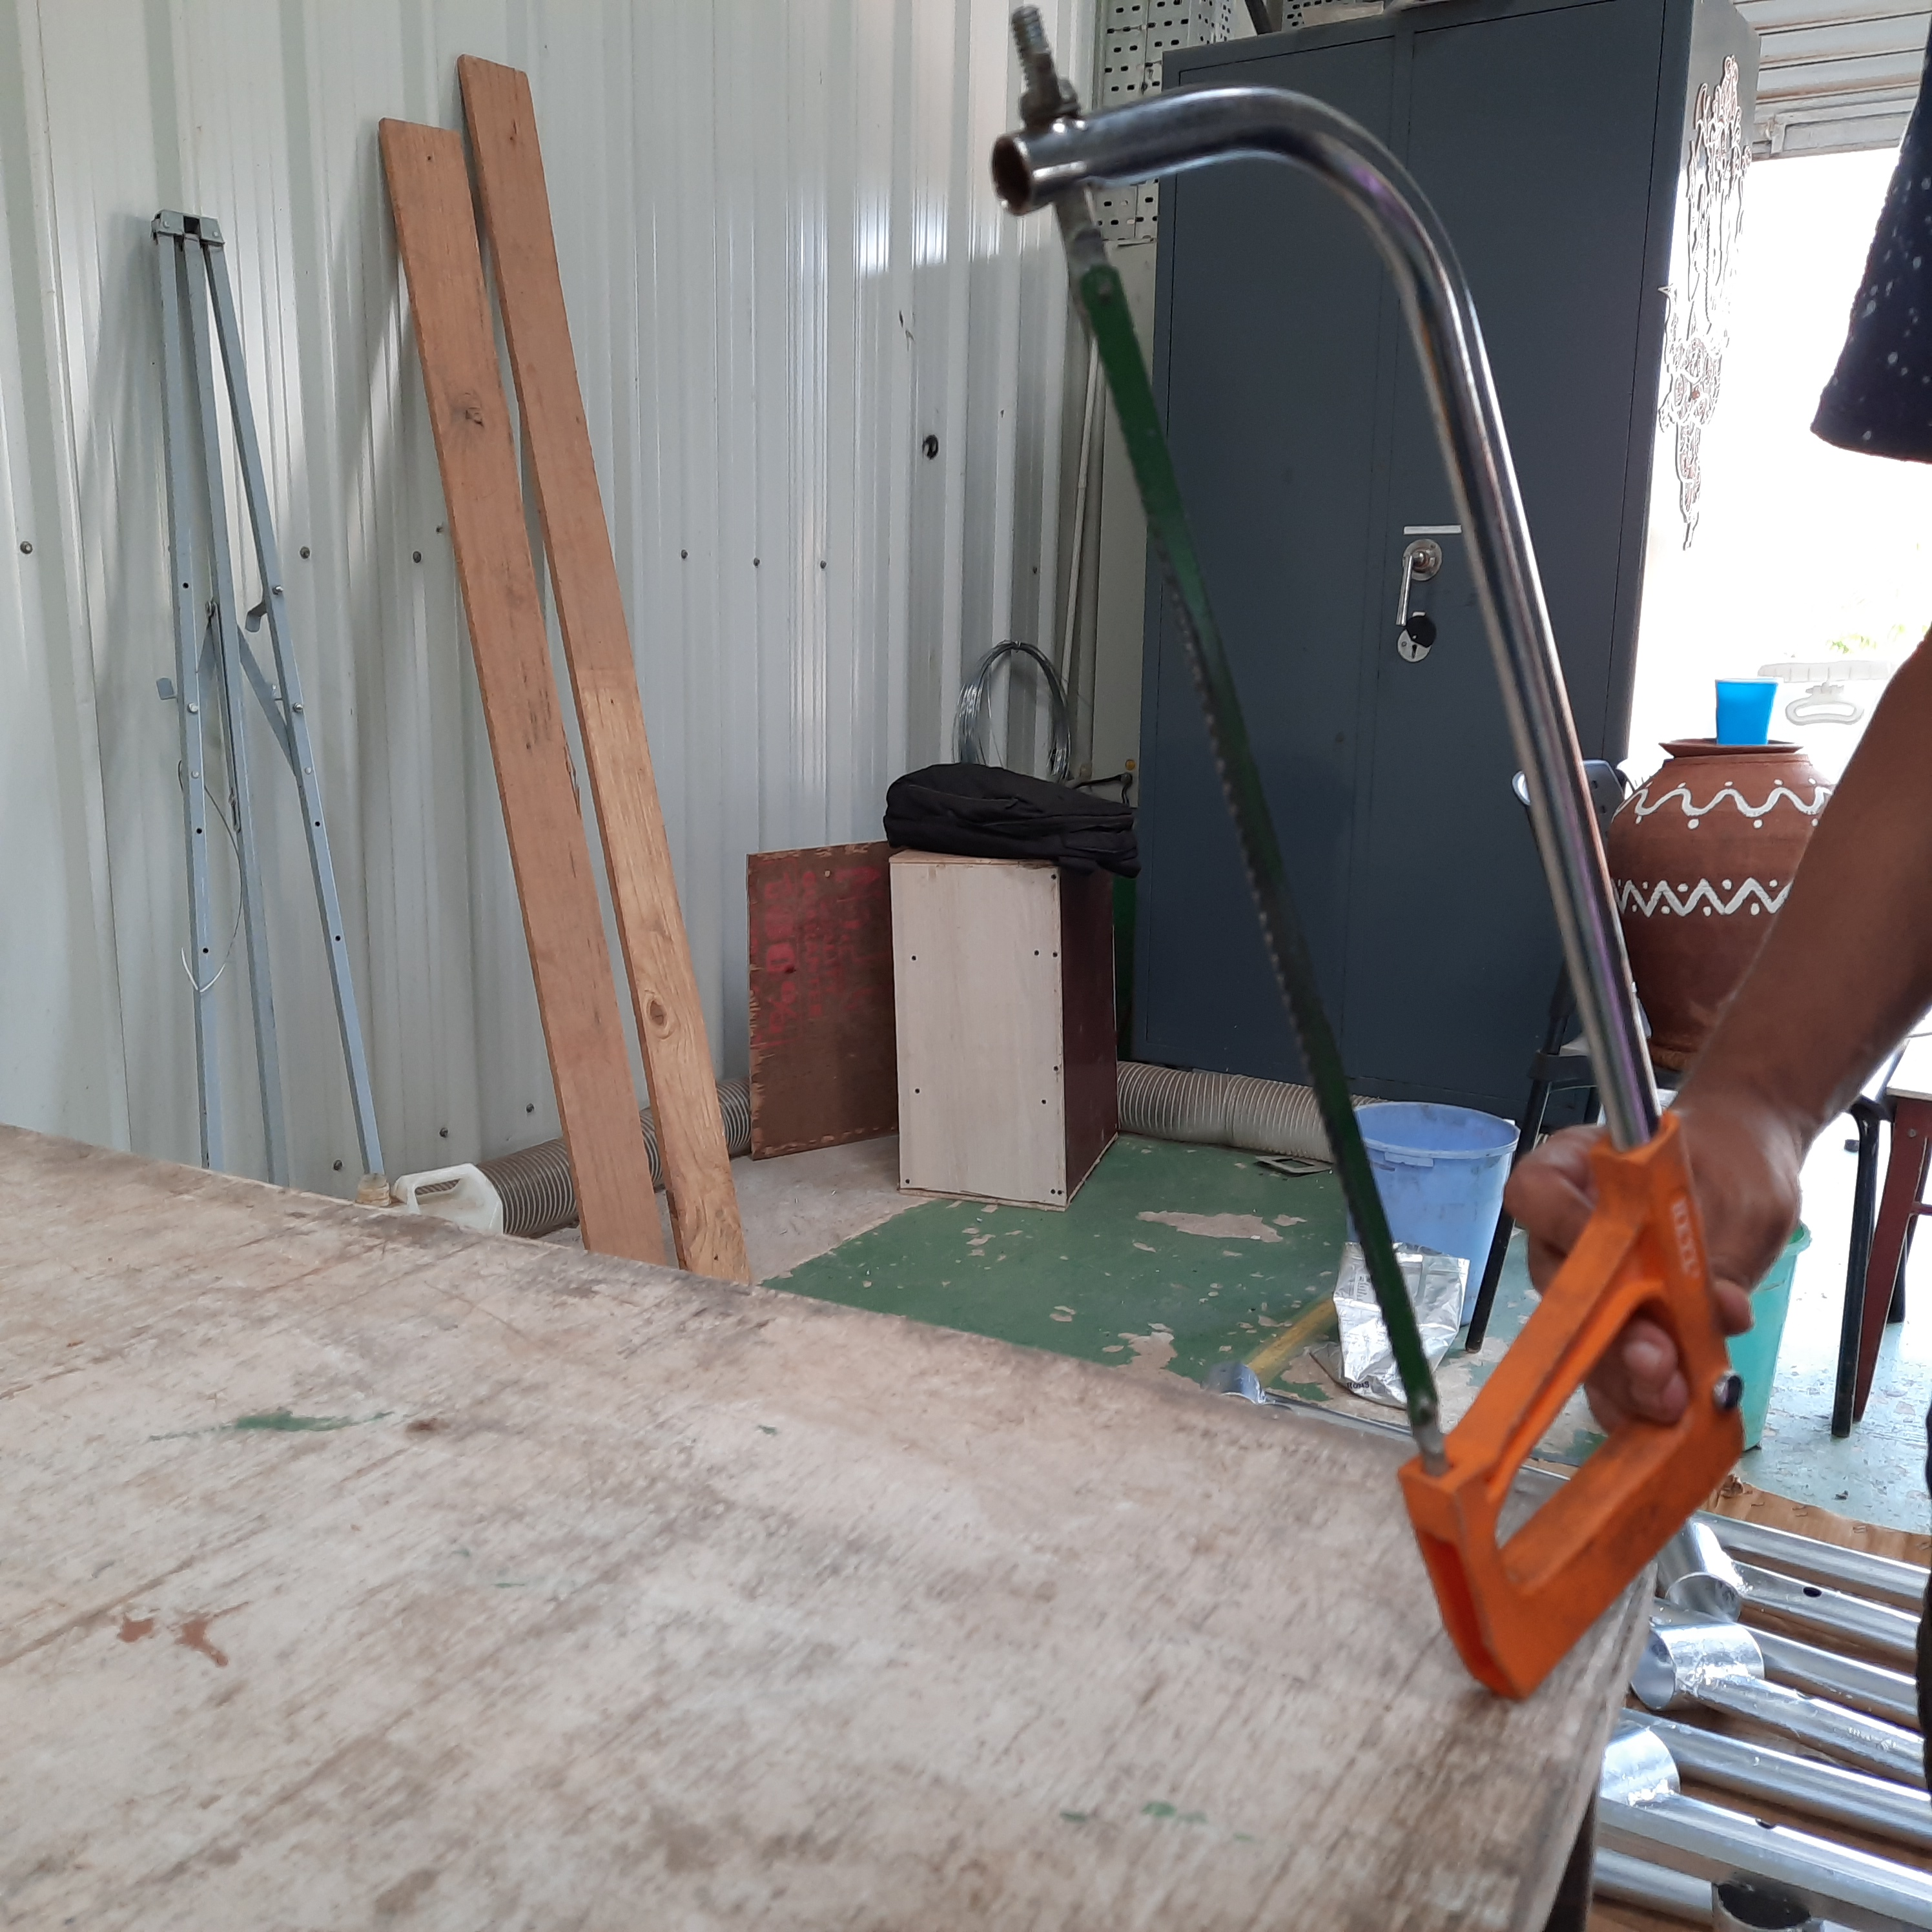Hexaframe: (980, 14, 1780, 1702)
